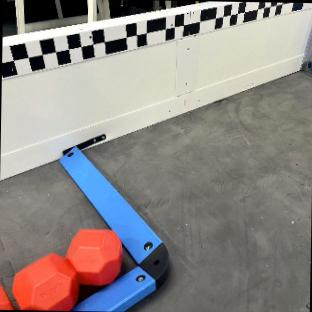V5_RED: (11, 229, 121, 310)
